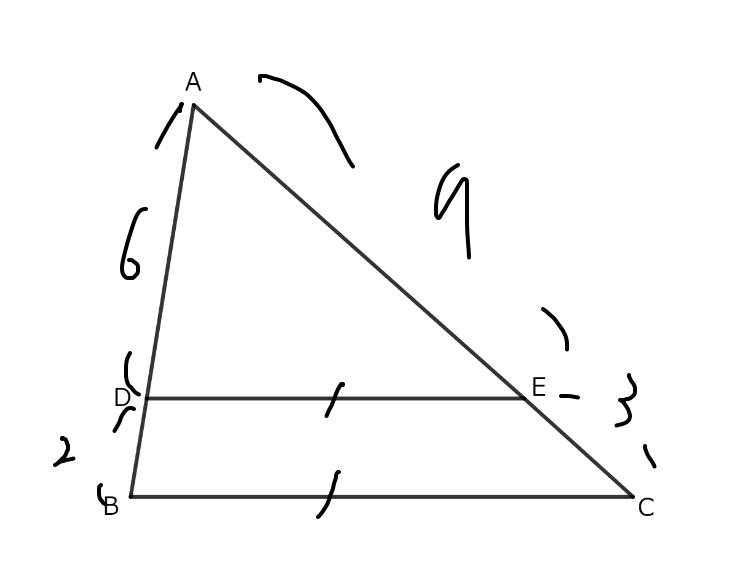Edge_Spine: (311, 467, 345, 518), (320, 376, 350, 419)
